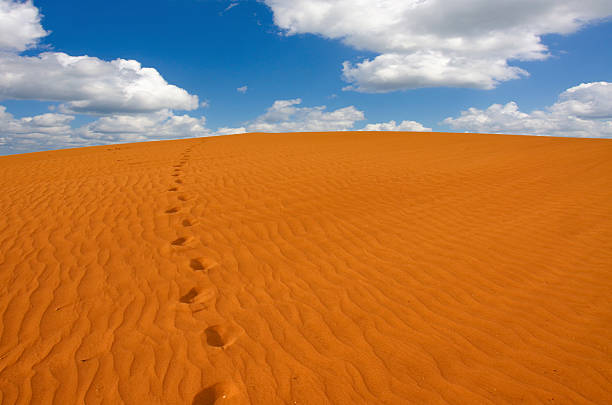human_footprint: (174, 279, 221, 333), (192, 381, 239, 404), (171, 151, 190, 204), (205, 323, 243, 348), (161, 234, 195, 259), (179, 286, 216, 307), (164, 178, 185, 214), (179, 287, 215, 303), (189, 257, 218, 270), (179, 288, 197, 303), (171, 236, 193, 246), (168, 178, 182, 191), (190, 259, 204, 270), (171, 169, 183, 181), (181, 218, 195, 226), (165, 207, 180, 214), (172, 164, 183, 173), (165, 206, 179, 213), (177, 194, 188, 201), (171, 171, 182, 177), (173, 167, 182, 172), (175, 179, 183, 184), (168, 187, 177, 191), (179, 159, 186, 164), (182, 155, 189, 160), (183, 153, 189, 158), (173, 164, 181, 167), (172, 173, 179, 176)
